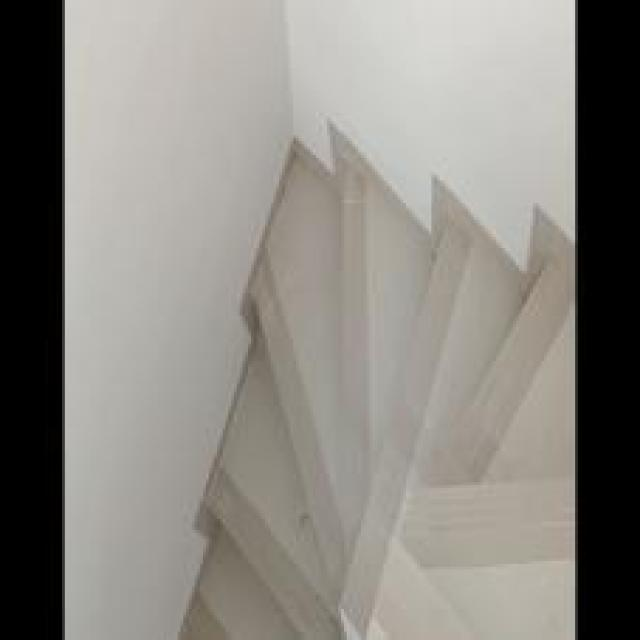downstair: (238, 201, 585, 638)
